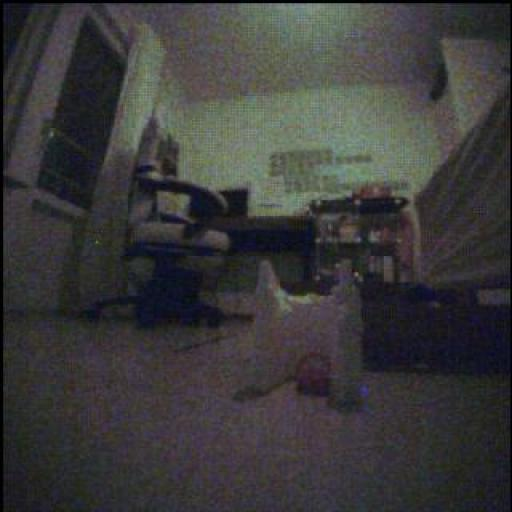basket: (297, 353, 332, 398)
